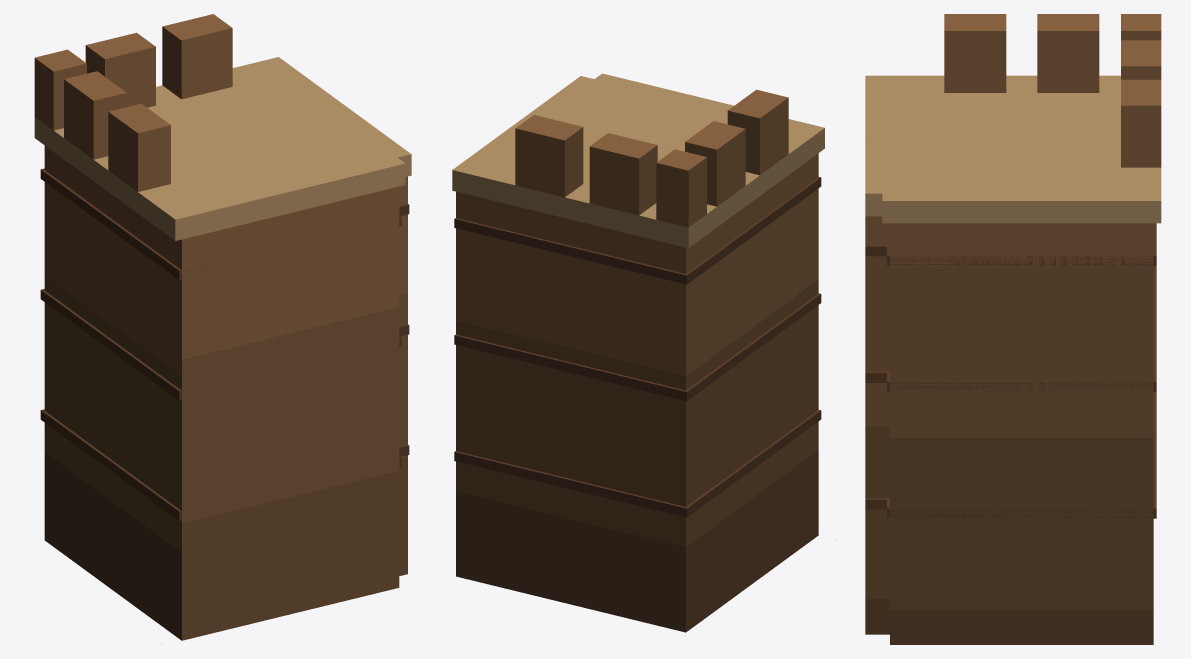
Rendered from perimeter_wall_wood_corner.glb.
The picture shows the model from 3 angles, left to right: view 1: azimuth 30°, elevation 25°; view 2: azimuth 150°, elevation 25°; view 3: azimuth 270°, elevation 25°; orthographic projection. The views are drawn at different scales.
Size of the model in its own units: 2.01 by 3.6 by 2.01.
Materials: 1 (1 with a texture image).
